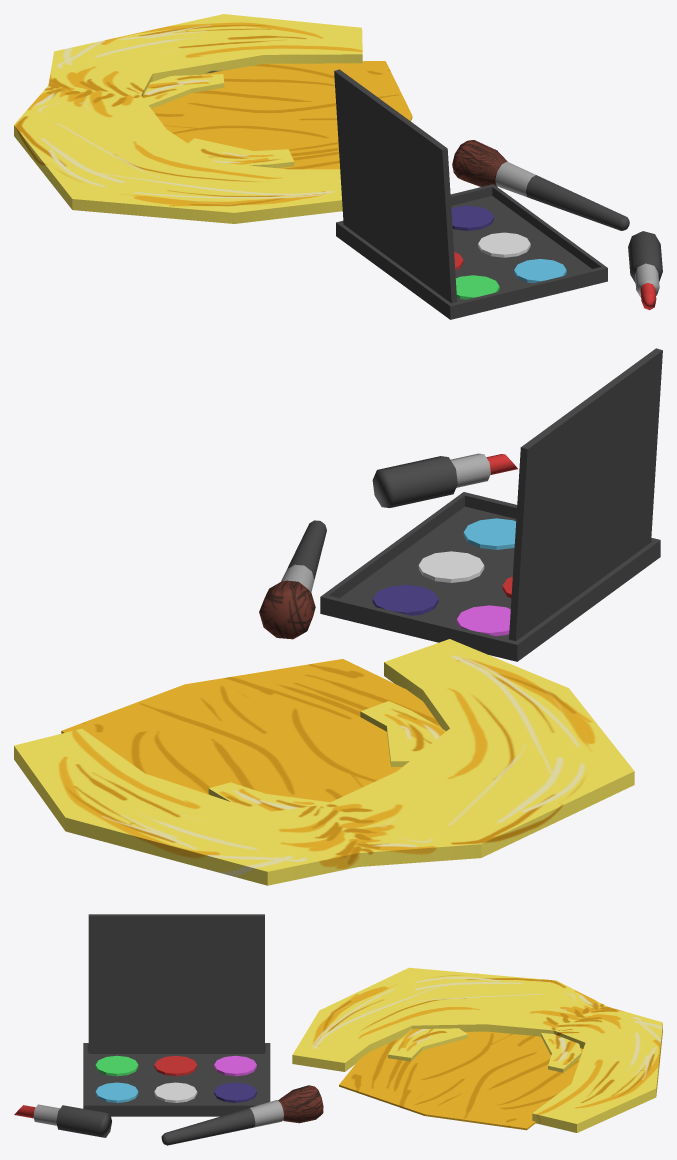
The model's file is costume.fbx.
The picture shows the model from 3 angles, top to bottom: view 1: azimuth 30°, elevation 25°; view 2: azimuth 150°, elevation 25°; view 3: azimuth 270°, elevation 25°; orthographic projection. The views are drawn at different scales.
Parts seen in each view (by area): view 1: pCube3; view 2: pCube3; view 3: pCube3.
Part boxes in pixels (x1=…): pCube3: x1=14, y1=14, x2=662, y2=319; pCube3: x1=14, y1=348, x2=662, y2=885; pCube3: x1=14, y1=914, x2=662, y2=1145.
Bounding box in the file's own units: 32.07 × 12.94 × 54.05.
Materials: 1 (1 with a texture image).
